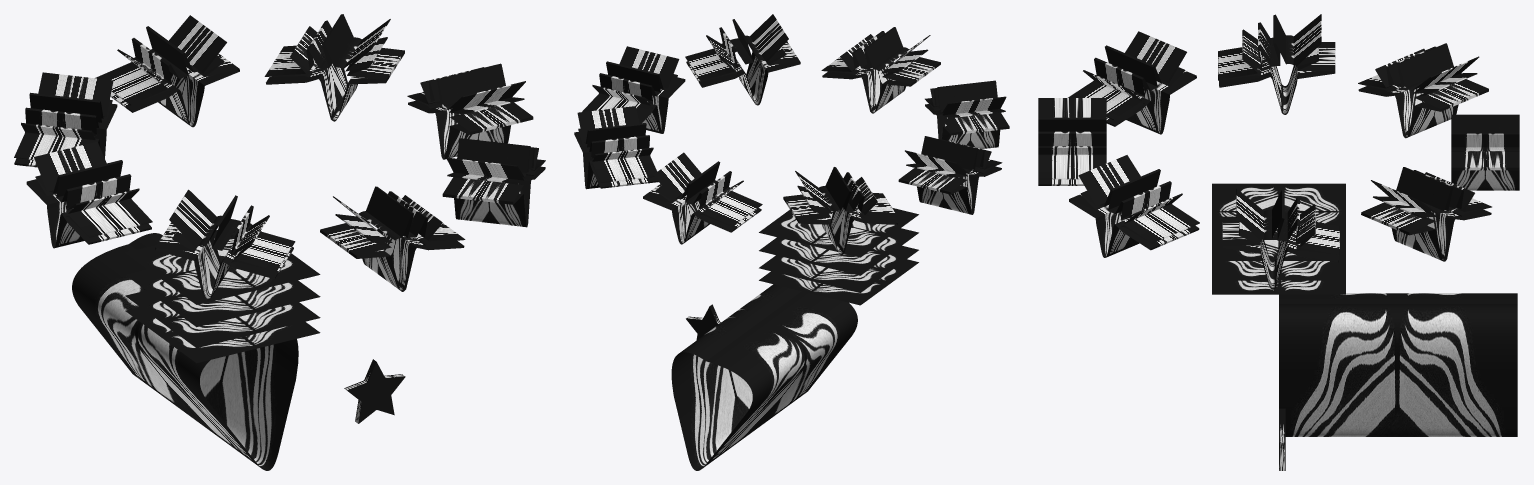
3 renders of one model, left to right at view 1: azimuth 30°, elevation 25°; view 2: azimuth 150°, elevation 25°; view 3: azimuth 270°, elevation 25°, orthographic. The views are drawn at different scales.
Parts seen in each view (by area): view 1: spirale, no_alpha (×4), no_alpha.2, no_alpha.8, no_alpha.3, no_alpha.4, no_alpha.7, no_alpha.5, no_alpha.6, no_alpha.1, Cap_1; view 2: spirale, no_alpha (×4), no_alpha.8, no_alpha.7, no_alpha.5, no_alpha.6, no_alpha.2, no_alpha.4, no_alpha.1, no_alpha.3, Cap_2; view 3: spirale, no_alpha (×4), no_alpha.5, no_alpha.3, no_alpha.7, no_alpha.1, no_alpha.6, no_alpha.2, no_alpha.4, no_alpha.8.
Part boxes in pixels (box(x1,y1,x2,y2)): spirale: box(72, 233, 298, 470); no_alpha (×4): box(125, 223, 320, 363); no_alpha.2: box(26, 141, 152, 248); no_alpha.8: box(95, 15, 239, 127); no_alpha.3: box(155, 189, 295, 300); no_alpha.4: box(320, 186, 465, 291); no_alpha.7: box(264, 14, 404, 121); no_alpha.5: box(442, 138, 545, 227); no_alpha.6: box(407, 63, 533, 159); no_alpha.1: box(14, 72, 117, 167); Cap_1: box(348, 362, 405, 423); spirale: box(671, 284, 857, 470); no_alpha (×4): box(759, 208, 918, 305); no_alpha.8: box(643, 152, 762, 244); no_alpha.7: box(574, 106, 658, 189); no_alpha.5: box(685, 14, 800, 105); no_alpha.6: box(582, 46, 685, 133); no_alpha.2: box(898, 136, 1002, 214); no_alpha.4: box(821, 27, 940, 113); no_alpha.1: box(783, 167, 898, 255); no_alpha.3: box(925, 80, 1009, 148); Cap_2: box(686, 306, 718, 340); spirale: box(1279, 293, 1517, 436); no_alpha (×4): box(1212, 183, 1345, 294); no_alpha.5: box(1069, 155, 1199, 257); no_alpha.3: box(1068, 31, 1196, 134); no_alpha.7: box(1361, 167, 1491, 261); no_alpha.1: box(1358, 43, 1488, 138); no_alpha.6: box(1222, 189, 1339, 289); no_alpha.2: box(1218, 14, 1335, 114); no_alpha.4: box(1038, 98, 1106, 185); no_alpha.8: box(1451, 114, 1519, 190).
Size of the model in its own units: 1438 by 1074 by 1438.
Materials: 1 (1 with a texture image).
